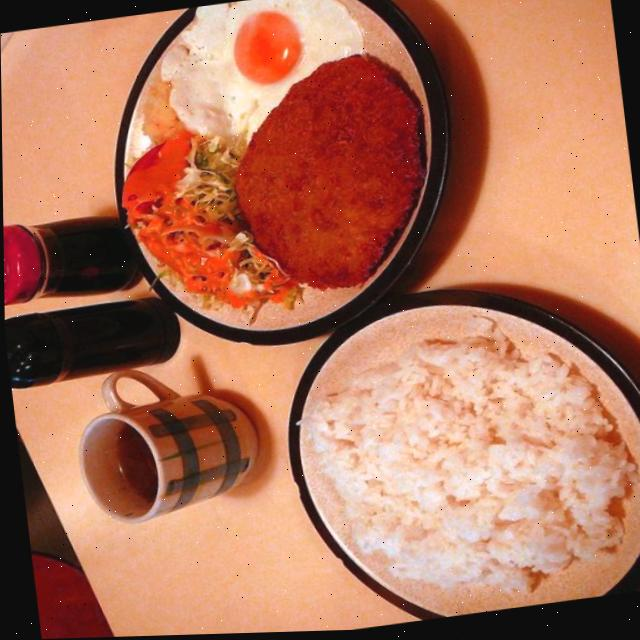米饭主食: (290, 319, 630, 633)
鸡蛋料理: (156, 0, 342, 134)
